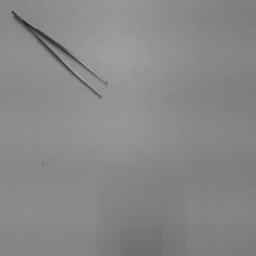Gillies Toothed Dissector: (8, 4, 112, 106)
